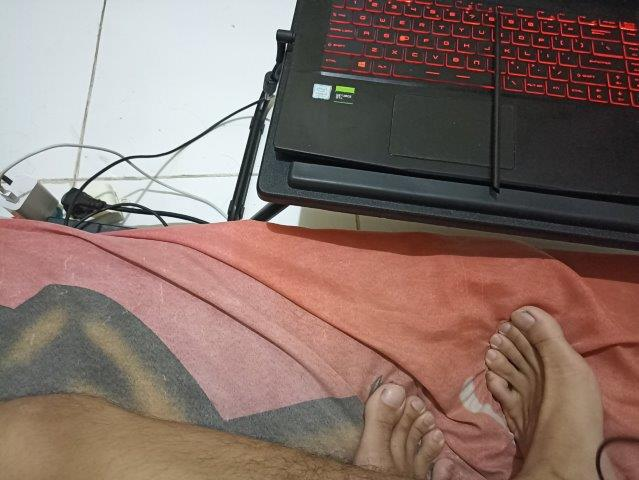sedotan: (491, 17, 501, 192)
